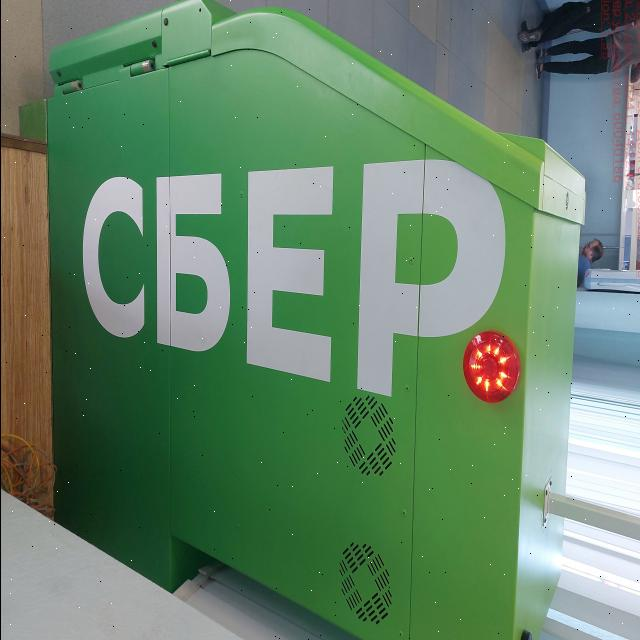bank: (43, 7, 589, 640)
